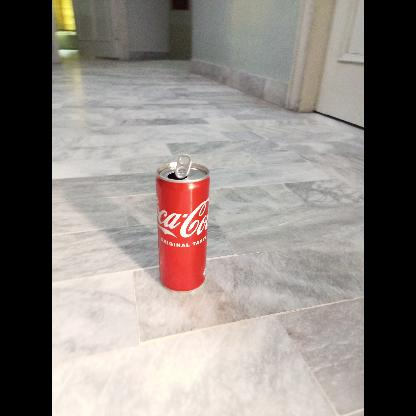Lid_Open: (169, 152, 199, 182)
Tin_Can: (152, 154, 212, 290)
